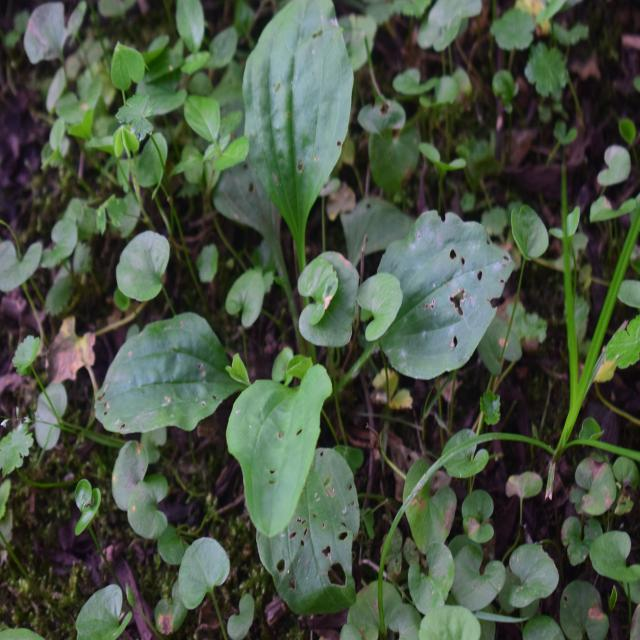plantain: (109, 46, 514, 520)
